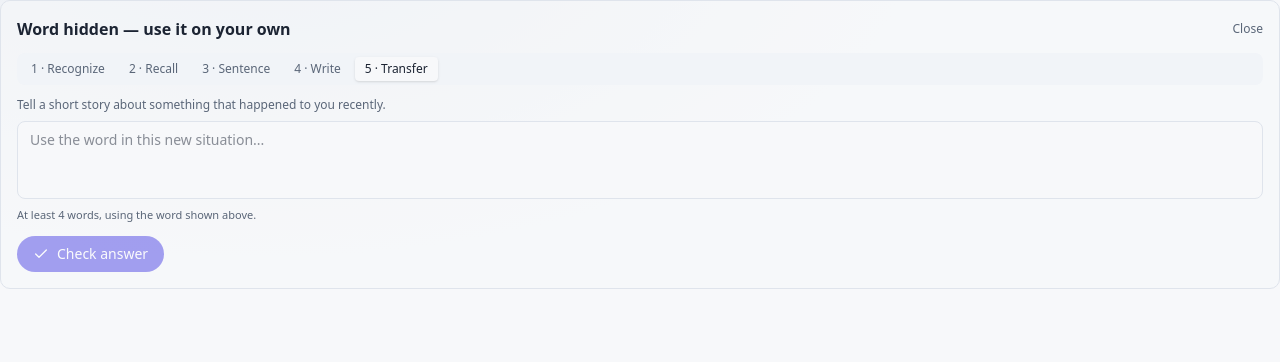
Scenario: WordDrill paso Transfer (V3.40) › un uso léxico con adecuación sospechosa avisa y no declara transferencia limpia
Type "I river the water every morning before work." into the text box named "Your answer" at (640, 160), box [17,121,1263,199]
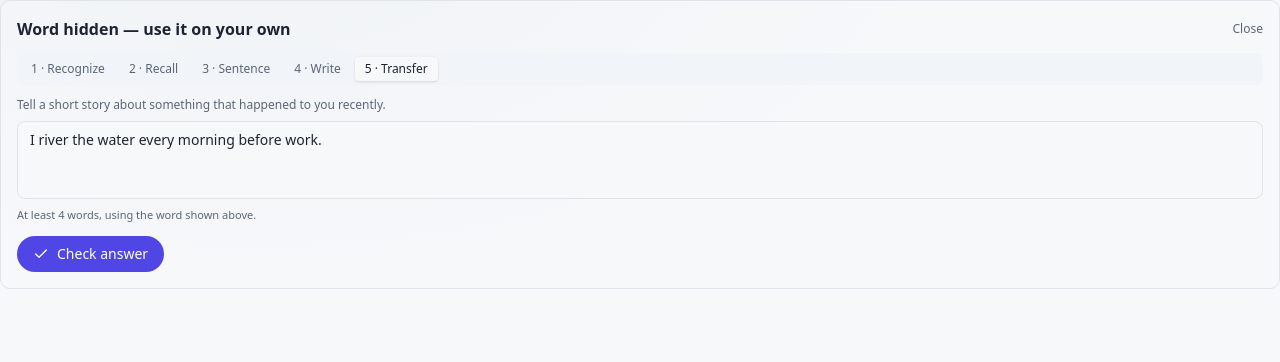
Click the button "Check answer" at (91, 254), box [17,236,164,272]
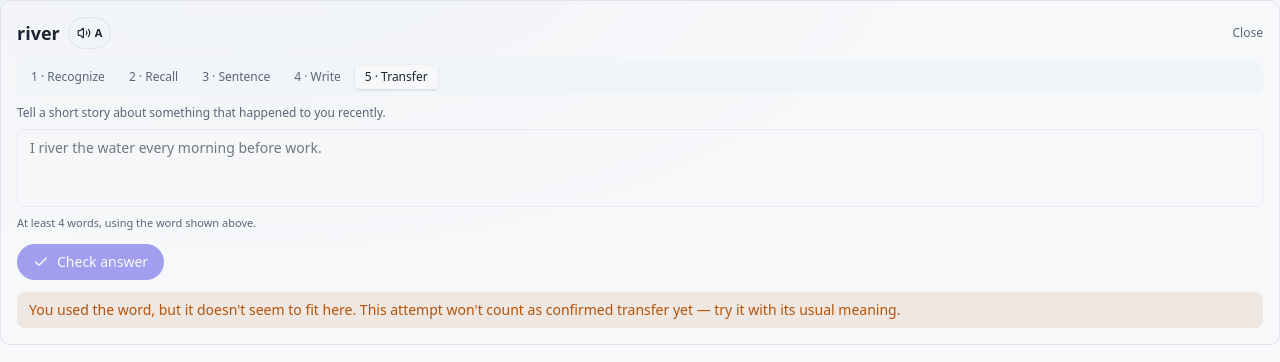
Expected: the text "won't count as confirmed transfer" is shown, [29,300,900,318]
Expected: the text "river" is shown, [17,19,60,47]
